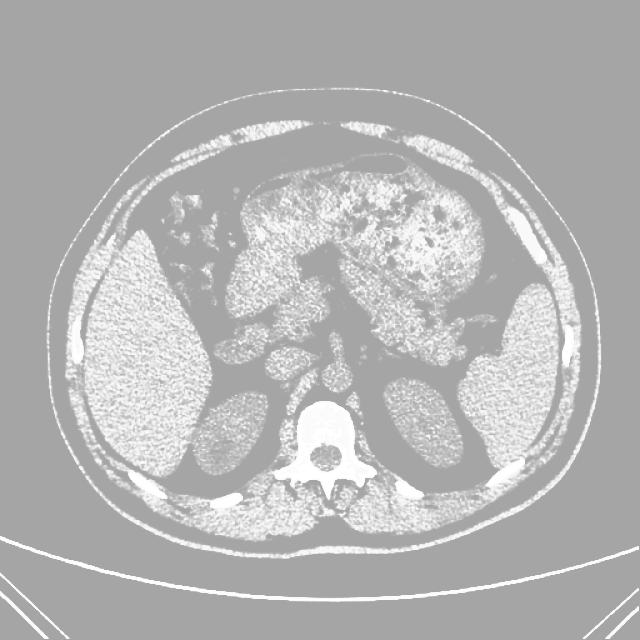cysts: (52, 97, 593, 555)
